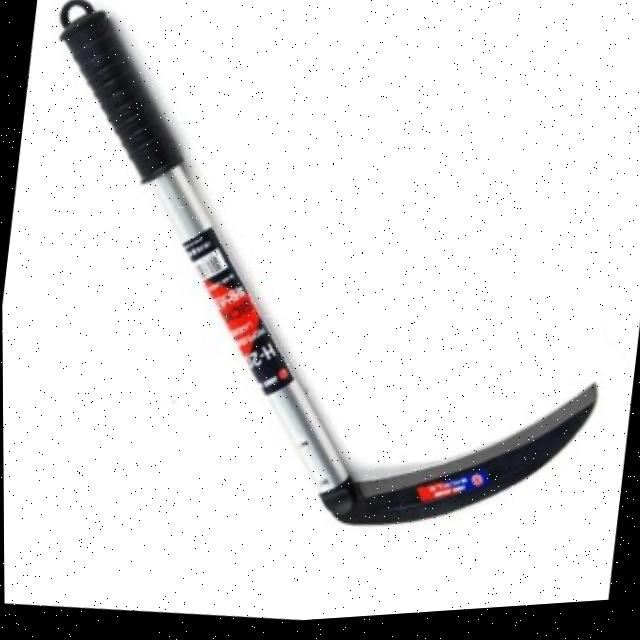sickle: (12, 0, 635, 605)
